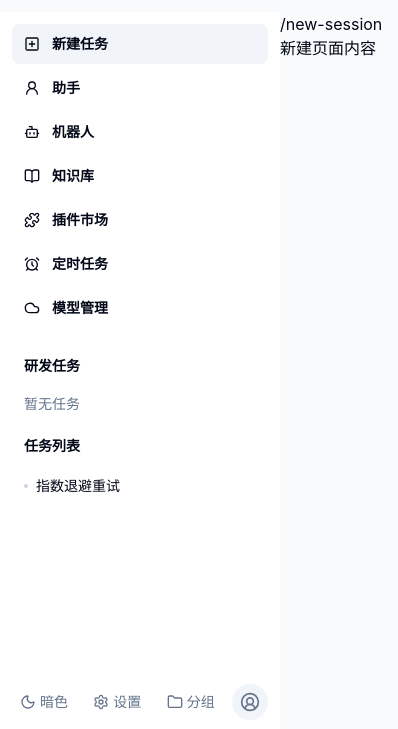
Scenario: WorkspaceLayout › navigates to the scheduler page from the guada sidebar
Click the button "定时任务".
click(140, 264)  # box [12,244,268,284]
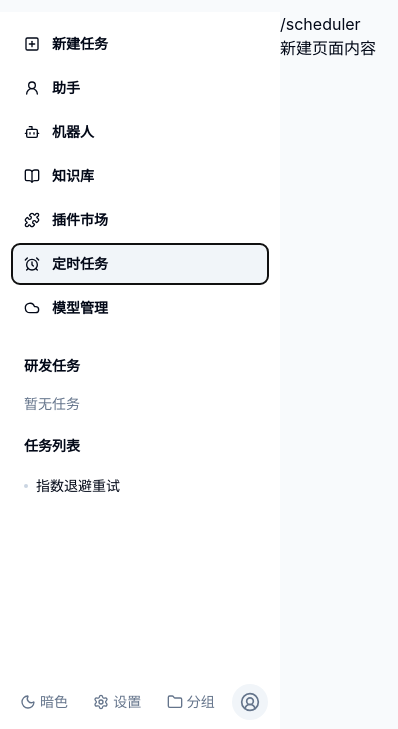
Check: the text with test id "location-path" reads "/scheduler", box [280,14,361,34]
